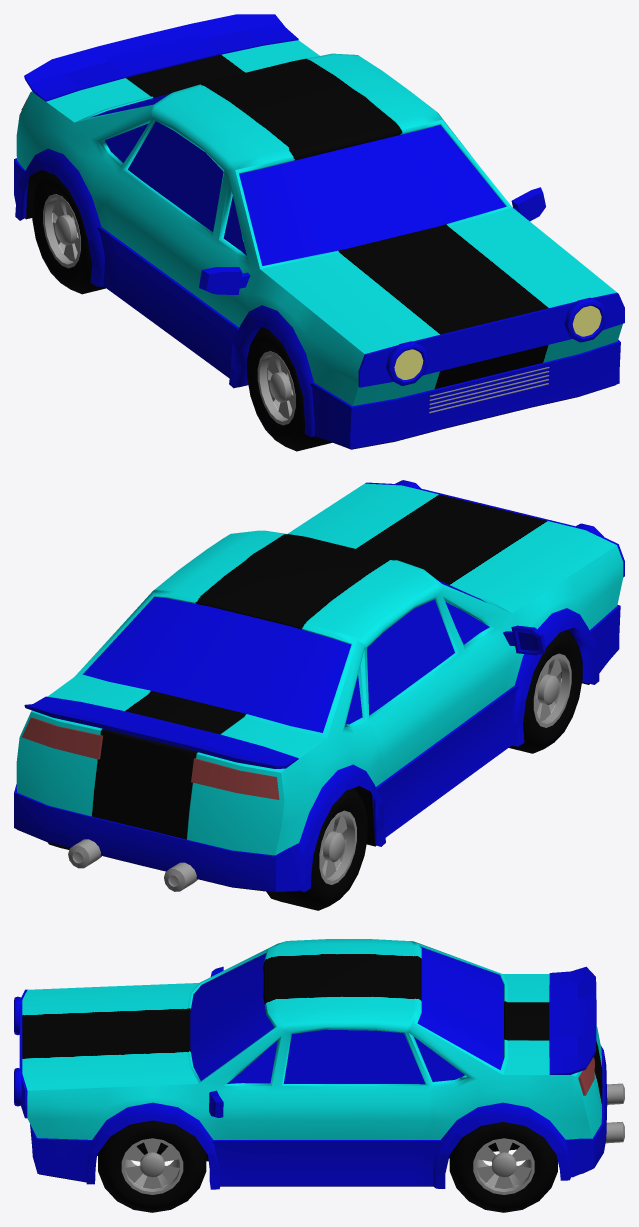
File: Muscle Evolution2 Blue LineBlackCyan Blue LightGrey.gltf
The picture shows the model from 3 angles, top to bottom: view 1: azimuth 30°, elevation 25°; view 2: azimuth 150°, elevation 25°; view 3: azimuth 270°, elevation 25°; orthographic projection. The views are drawn at different scales.
Visible parts, largest first — view 1: evo2_body2_f1_dupl, evo2_frontGlass_f1_dupl, evo2_sill2_f1_dupl, evo2_spoiler2_f1_dupl, evo2_front_square2_f1_dupl, evo2_glasseBigR_f1_dupl, evo2_mudguardFR_f1_dupl, evo2_mudguardbR_f1_dupl, evo2_tire_rf1_f1_dupl, evo2_tire_rf_f1_dupl, evo2_rim_A_rf_f1_dupl, evo2_rim_A_rb_f1_dupl (+9 smaller); view 2: evo2_body2_f1_dupl, evo2_BackGlassGlass_f1_dupl, evo2_sill2_f1_dupl, evo2_spoiler2_f1_dupl, evo2_glasseBigR_f1_dupl, evo2_tire_rf_f1_dupl, evo2_mudguardbR_f1_dupl, evo2_mudguardFR_f1_dupl, evo2_tire_rf1_f1_dupl, evo2_rim_A_rf_f1_dupl, evo2_rim_A_rb_f1_dupl, evo2_redlightR2_f1_dupl (+5 smaller); view 3: evo2_body2_f1_dupl, evo2_sill2_f1_dupl, evo2_BackGlassGlass_f1_dupl, evo2_glasseBigL_f1_dupl, evo2_frontGlass_f1_dupl, evo2_tire_lf_f1_dupl, evo2_tire_lb_f1_dupl, evo2_spoiler2_f1_dupl, evo2_mudguardBL_f1_dupl, evo2_mudguardFL_f1_dupl, evo2_rim_A_lf_f1_dupl, evo2_rim_A_lb_f1_dupl (+4 smaller).
Boxes of the visible parts, x1=… form: evo2_body2_f1_dupl: x1=16, y1=40, x2=622, y2=405; evo2_frontGlass_f1_dupl: x1=239, y1=125, x2=505, y2=265; evo2_sill2_f1_dupl: x1=14, y1=158, x2=620, y2=449; evo2_spoiler2_f1_dupl: x1=24, y1=14, x2=298, y2=101; evo2_front_square2_f1_dupl: x1=358, y1=292, x2=624, y2=387; evo2_glasseBigR_f1_dupl: x1=128, y1=121, x2=223, y2=231; evo2_mudguardFR_f1_dupl: x1=229, y1=305, x2=314, y2=437; evo2_mudguardbR_f1_dupl: x1=15, y1=148, x2=104, y2=286; evo2_tire_rf1_f1_dupl: x1=247, y1=327, x2=331, y2=451; evo2_tire_rf_f1_dupl: x1=32, y1=171, x2=105, y2=294; evo2_rim_A_rf_f1_dupl: x1=257, y1=351, x2=295, y2=425; evo2_rim_A_rb_f1_dupl: x1=43, y1=194, x2=80, y2=268; evo2_body2_f1_dupl: x1=16, y1=483, x2=623, y2=855; evo2_BackGlassGlass_f1_dupl: x1=83, y1=596, x2=351, y2=732; evo2_sill2_f1_dupl: x1=14, y1=605, x2=620, y2=891; evo2_spoiler2_f1_dupl: x1=24, y1=696, x2=298, y2=768; evo2_glasseBigR_f1_dupl: x1=367, y1=599, x2=454, y2=715; evo2_tire_rf_f1_dupl: x1=266, y1=787, x2=367, y2=910; evo2_mudguardbR_f1_dupl: x1=299, y1=764, x2=385, y2=891; evo2_mudguardFR_f1_dupl: x1=512, y1=608, x2=599, y2=746; evo2_tire_rf1_f1_dupl: x1=509, y1=629, x2=582, y2=753; evo2_rim_A_rf_f1_dupl: x1=533, y1=653, x2=571, y2=727; evo2_rim_A_rb_f1_dupl: x1=319, y1=810, x2=356, y2=884; evo2_redlightR2_f1_dupl: x1=191, y1=758, x2=279, y2=799; evo2_body2_f1_dupl: x1=22, y1=939, x2=602, y2=1159; evo2_sill2_f1_dupl: x1=30, y1=1045, x2=607, y2=1186; evo2_BackGlassGlass_f1_dupl: x1=417, y1=946, x2=503, y2=1070; evo2_glasseBigL_f1_dupl: x1=283, y1=1029, x2=425, y2=1084; evo2_frontGlass_f1_dupl: x1=190, y1=953, x2=274, y2=1080; evo2_tire_lf_f1_dupl: x1=98, y1=1120, x2=206, y2=1212; evo2_tire_lb_f1_dupl: x1=449, y1=1122, x2=557, y2=1212; evo2_spoiler2_f1_dupl: x1=549, y1=966, x2=596, y2=1074; evo2_mudguardBL_f1_dupl: x1=433, y1=1102, x2=570, y2=1188; evo2_mudguardFL_f1_dupl: x1=86, y1=1102, x2=220, y2=1189; evo2_rim_A_lf_f1_dupl: x1=121, y1=1138, x2=183, y2=1194; evo2_rim_A_lb_f1_dupl: x1=473, y1=1138, x2=534, y2=1194.
Size of the model in its own units: 177 by 112 by 331.
Materials: 6 (1 with a texture image).
